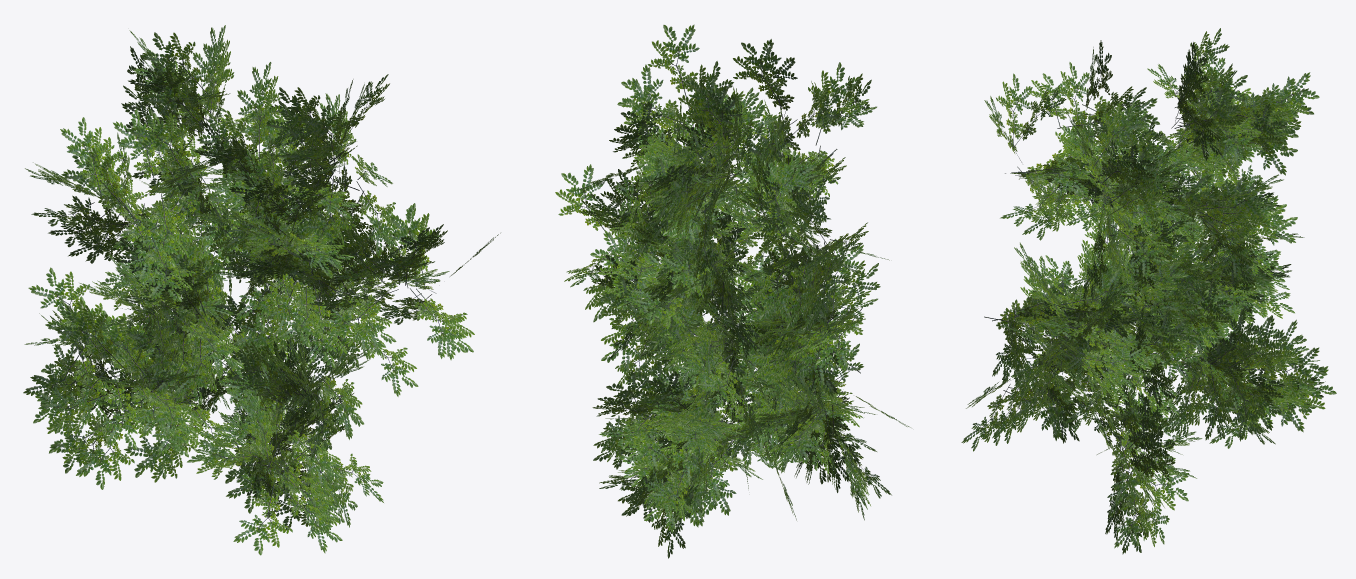
File: treeLP2.obj
3 renders of one model, left to right at view 1: azimuth 30°, elevation 25°; view 2: azimuth 150°, elevation 25°; view 3: azimuth 270°, elevation 25°, orthographic. The views are drawn at different scales.
Visible parts, largest first — view 1: TreeHighPoly; view 2: TreeHighPoly; view 3: TreeHighPoly.
Boxes of the visible parts, x1,y1,x2,y2 form: TreeHighPoly: [23, 25, 500, 555]; TreeHighPoly: [555, 24, 910, 558]; TreeHighPoly: [961, 28, 1336, 554].
Bounding box in the file's own units: 7.69 × 9.5 × 6.72.
Materials: 1 (1 with a texture image).
